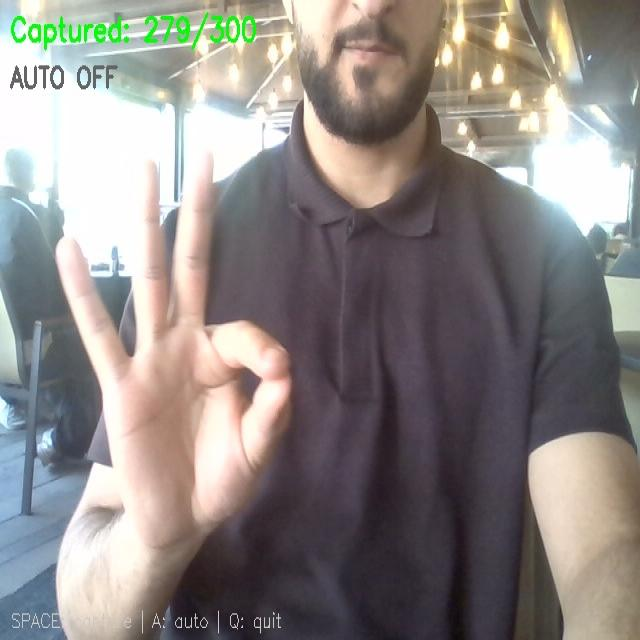Hand: (57, 156, 290, 550)
